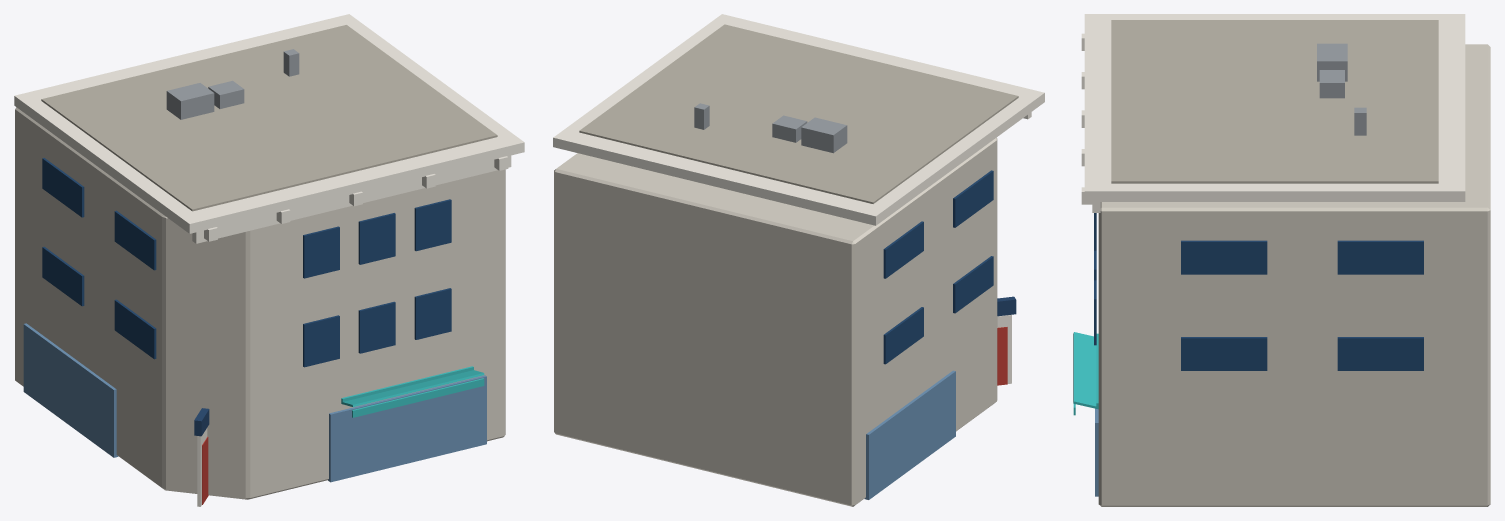
The model's file is corner_w14_f3.glb.
The picture shows the model from 3 angles, left to right: view 1: azimuth 30°, elevation 25°; view 2: azimuth 150°, elevation 25°; view 3: azimuth 270°, elevation 25°; orthographic projection. The views are drawn at different scales.
Parts seen in each view (by area): view 1: lwalls, roofslab, corn, shopf, shops, frieze, win.001, win.005, win.002, win.004, win, win.003 (+9 smaller); view 2: lwalls, roofslab, corn, shops, hvac, sb, sb.002, sb.006, sb.004, hvac2, cdoor; view 3: lwalls, roofslab, corn, sb.005, sb.007, sb.001, sb.003, awn, hvac, hvac2.
Part boxes in pixels (bbox=[...]): lwalls: bbox=[15, 107, 505, 499]; roofslab: bbox=[41, 25, 497, 211]; corn: bbox=[14, 14, 524, 233]; shopf: bbox=[328, 375, 486, 482]; shops: bbox=[23, 323, 118, 457]; frieze: bbox=[192, 155, 511, 243]; win.001: bbox=[358, 301, 395, 353]; win.005: bbox=[414, 199, 451, 251]; win.002: bbox=[414, 288, 451, 339]; win.004: bbox=[358, 213, 395, 264]; win: bbox=[303, 315, 339, 367]; win.003: bbox=[303, 226, 339, 278]; lwalls: bbox=[554, 137, 997, 506]; roofslab: bbox=[579, 24, 1018, 203]; corn: bbox=[553, 14, 1044, 225]; shops: bbox=[864, 370, 955, 499]; hvac: bbox=[801, 117, 847, 153]; sb: bbox=[953, 256, 993, 313]; sb.002: bbox=[883, 307, 923, 364]; sb.006: bbox=[883, 221, 923, 278]; sb.004: bbox=[953, 170, 993, 227]; hvac2: bbox=[772, 115, 807, 142]; cdoor: bbox=[997, 327, 1007, 385]; lwalls: bbox=[1098, 44, 1490, 506]; roofslab: bbox=[1111, 20, 1438, 183]; corn: bbox=[1084, 14, 1465, 201]; sb.005: bbox=[1181, 240, 1267, 274]; sb.007: bbox=[1337, 240, 1423, 274]; sb.001: bbox=[1181, 337, 1267, 370]; sb.003: bbox=[1337, 337, 1423, 370]; awn: bbox=[1073, 332, 1098, 409]; hvac: bbox=[1317, 43, 1347, 81]; hvac2: bbox=[1319, 70, 1344, 98].
Bounding box in the file's own units: 15 × 13.7 × 14.91.
